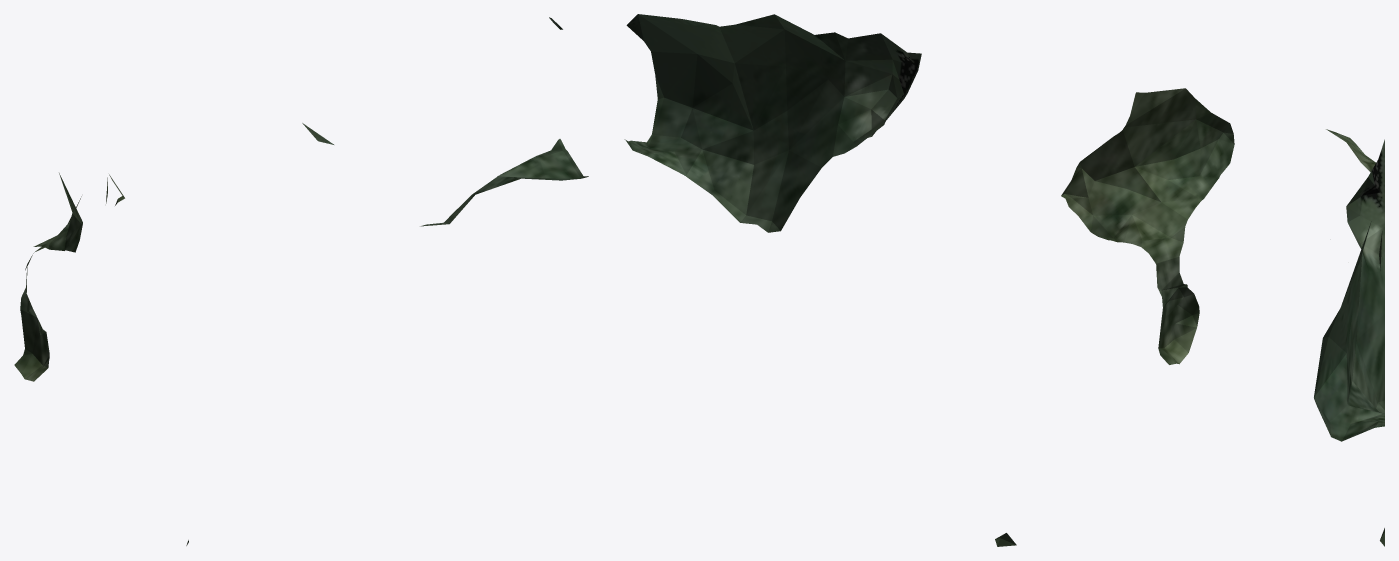
3 renders of one model, left to right at view 1: azimuth 30°, elevation 25°; view 2: azimuth 150°, elevation 25°; view 3: azimuth 270°, elevation 25°, orthographic. The views are drawn at different scales.
Bounding box in the file's own units: 5.9 × 5.05 × 1.23.
Materials: 1 (1 with a texture image).
